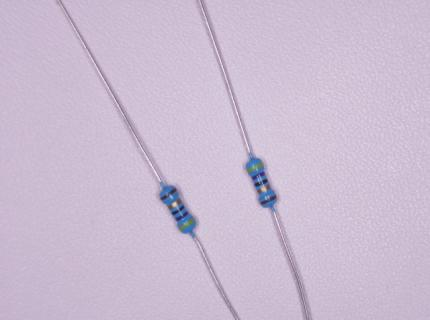Black band: (171, 204, 185, 216), (254, 178, 268, 188)
Brown band: (160, 187, 177, 200), (260, 194, 277, 205)
Gold band: (167, 197, 182, 210), (257, 184, 271, 194)
Violet band: (251, 171, 266, 181), (175, 211, 189, 221)
Yellow band: (179, 216, 195, 231), (247, 162, 263, 173)
